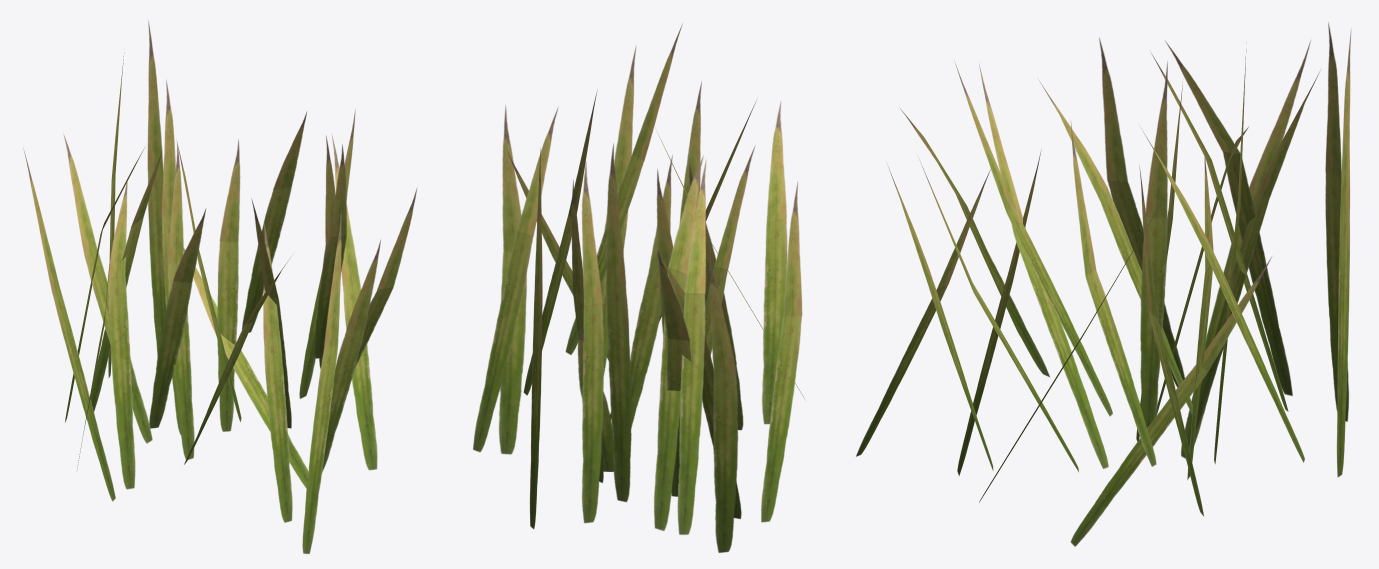
The model's file is grass.glb.
3 renders of one model, left to right at view 1: azimuth 30°, elevation 25°; view 2: azimuth 150°, elevation 25°; view 3: azimuth 270°, elevation 25°, orthographic. The views are drawn at different scales.
Visible parts, largest first — view 1: diffusegrass - Copy.020; view 2: diffusegrass - Copy.020; view 3: diffusegrass - Copy.020.
Boxes of the visible parts, <box> form: diffusegrass - Copy.020: <box>23,20,416,553</box>; diffusegrass - Copy.020: <box>473,23,804,552</box>; diffusegrass - Copy.020: <box>856,22,1351,546</box>.
Size of the model in its own units: 0.5768 by 0.7773 by 0.7311.
1 material, 1 textured.
